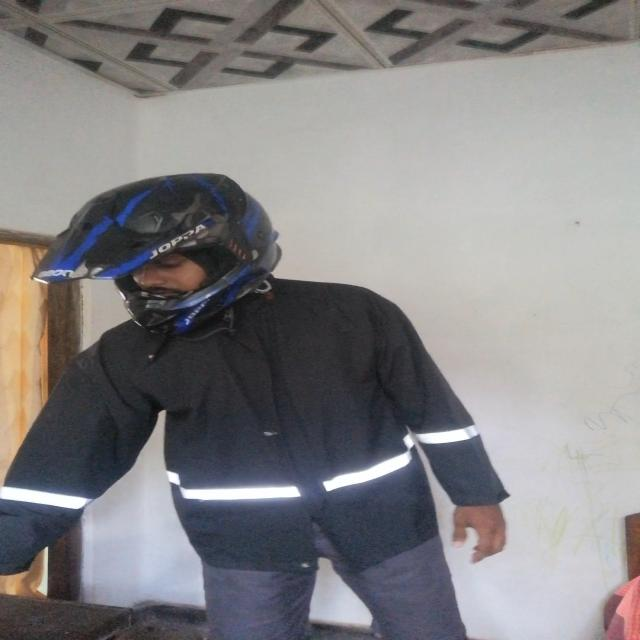Helmet_Wearer: (40, 175, 342, 322)
Jacket_Wearer: (65, 289, 498, 552)
